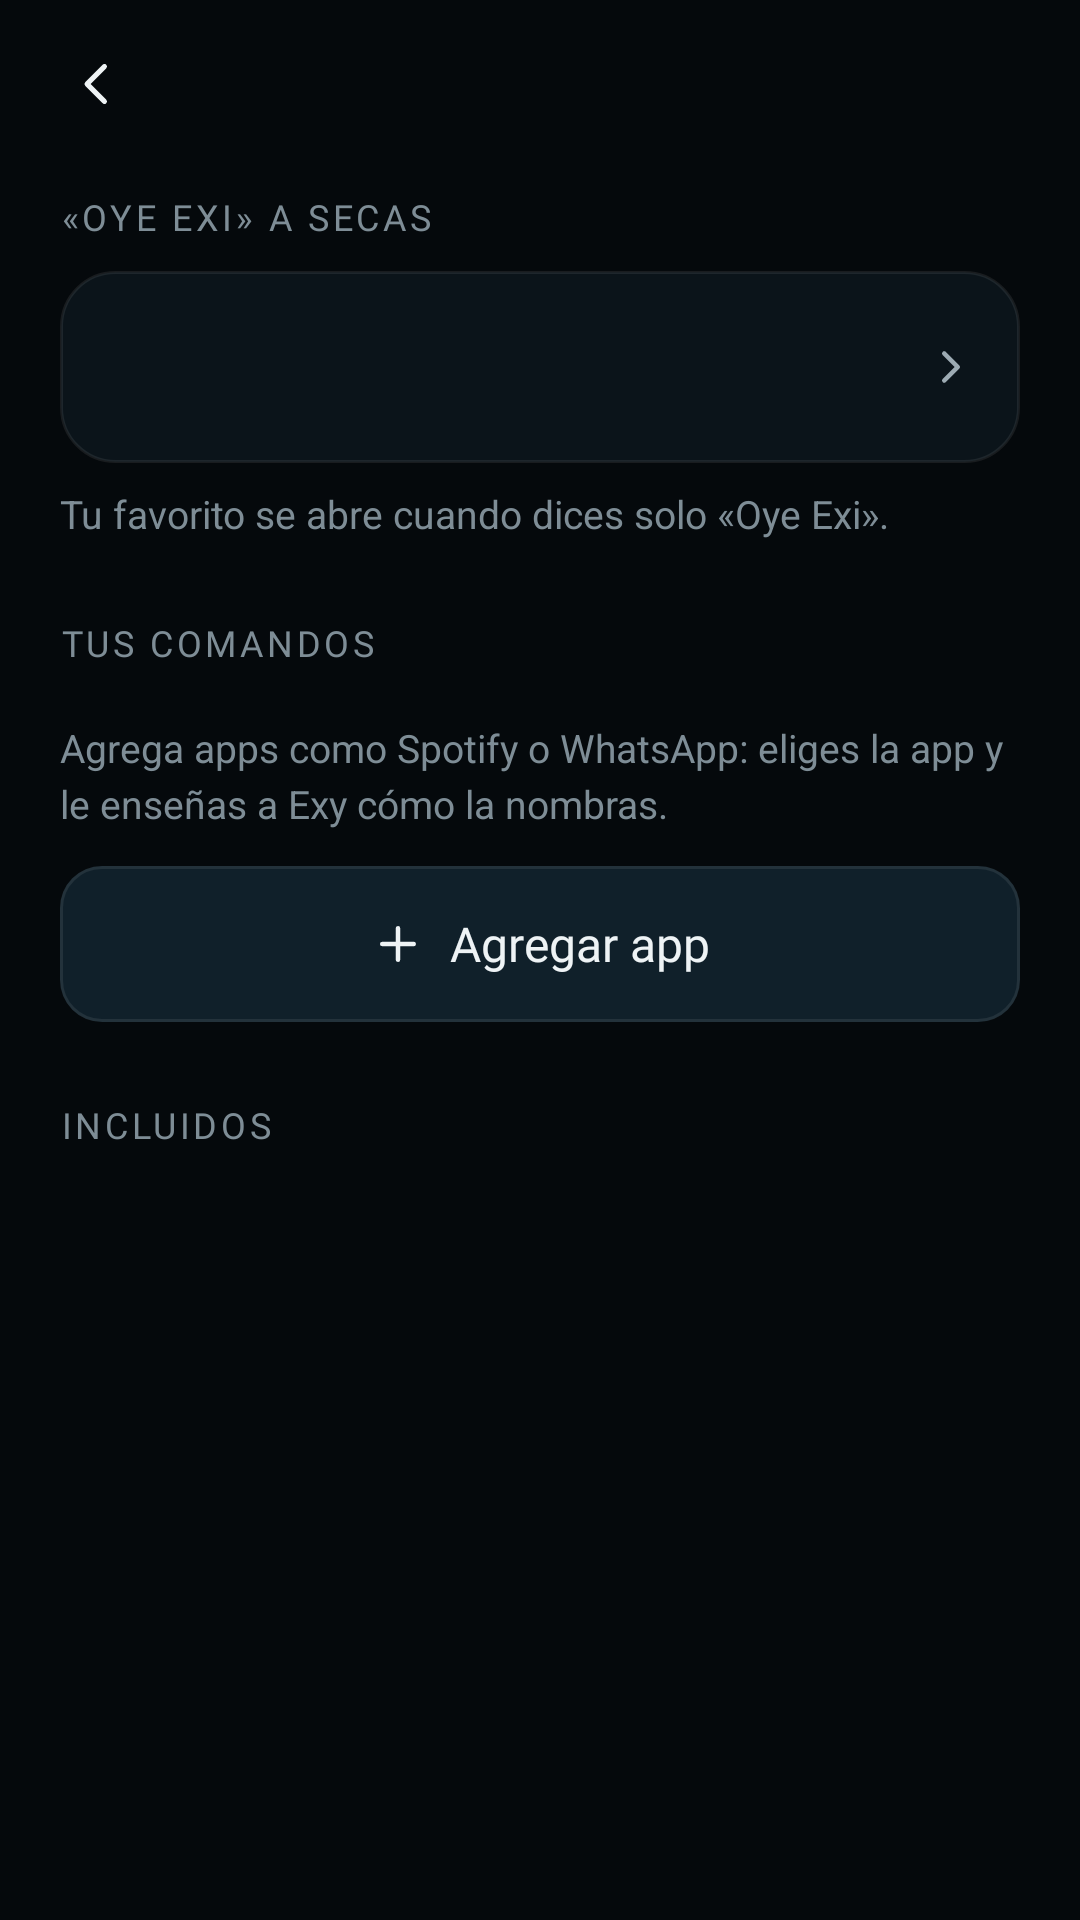

Point at icon controls on the screen. Image size 1080w x 1920h, points as (x,y).
chevron: (951,367)
